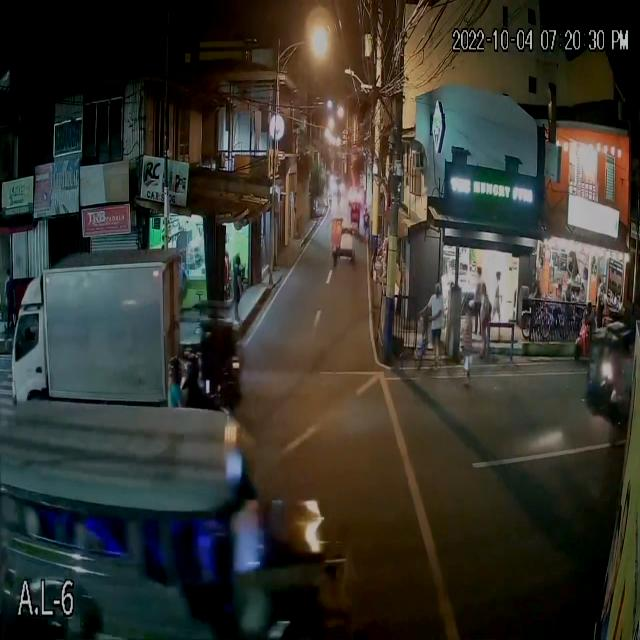Full-Faced: (165, 353, 185, 382), (186, 353, 201, 380)
